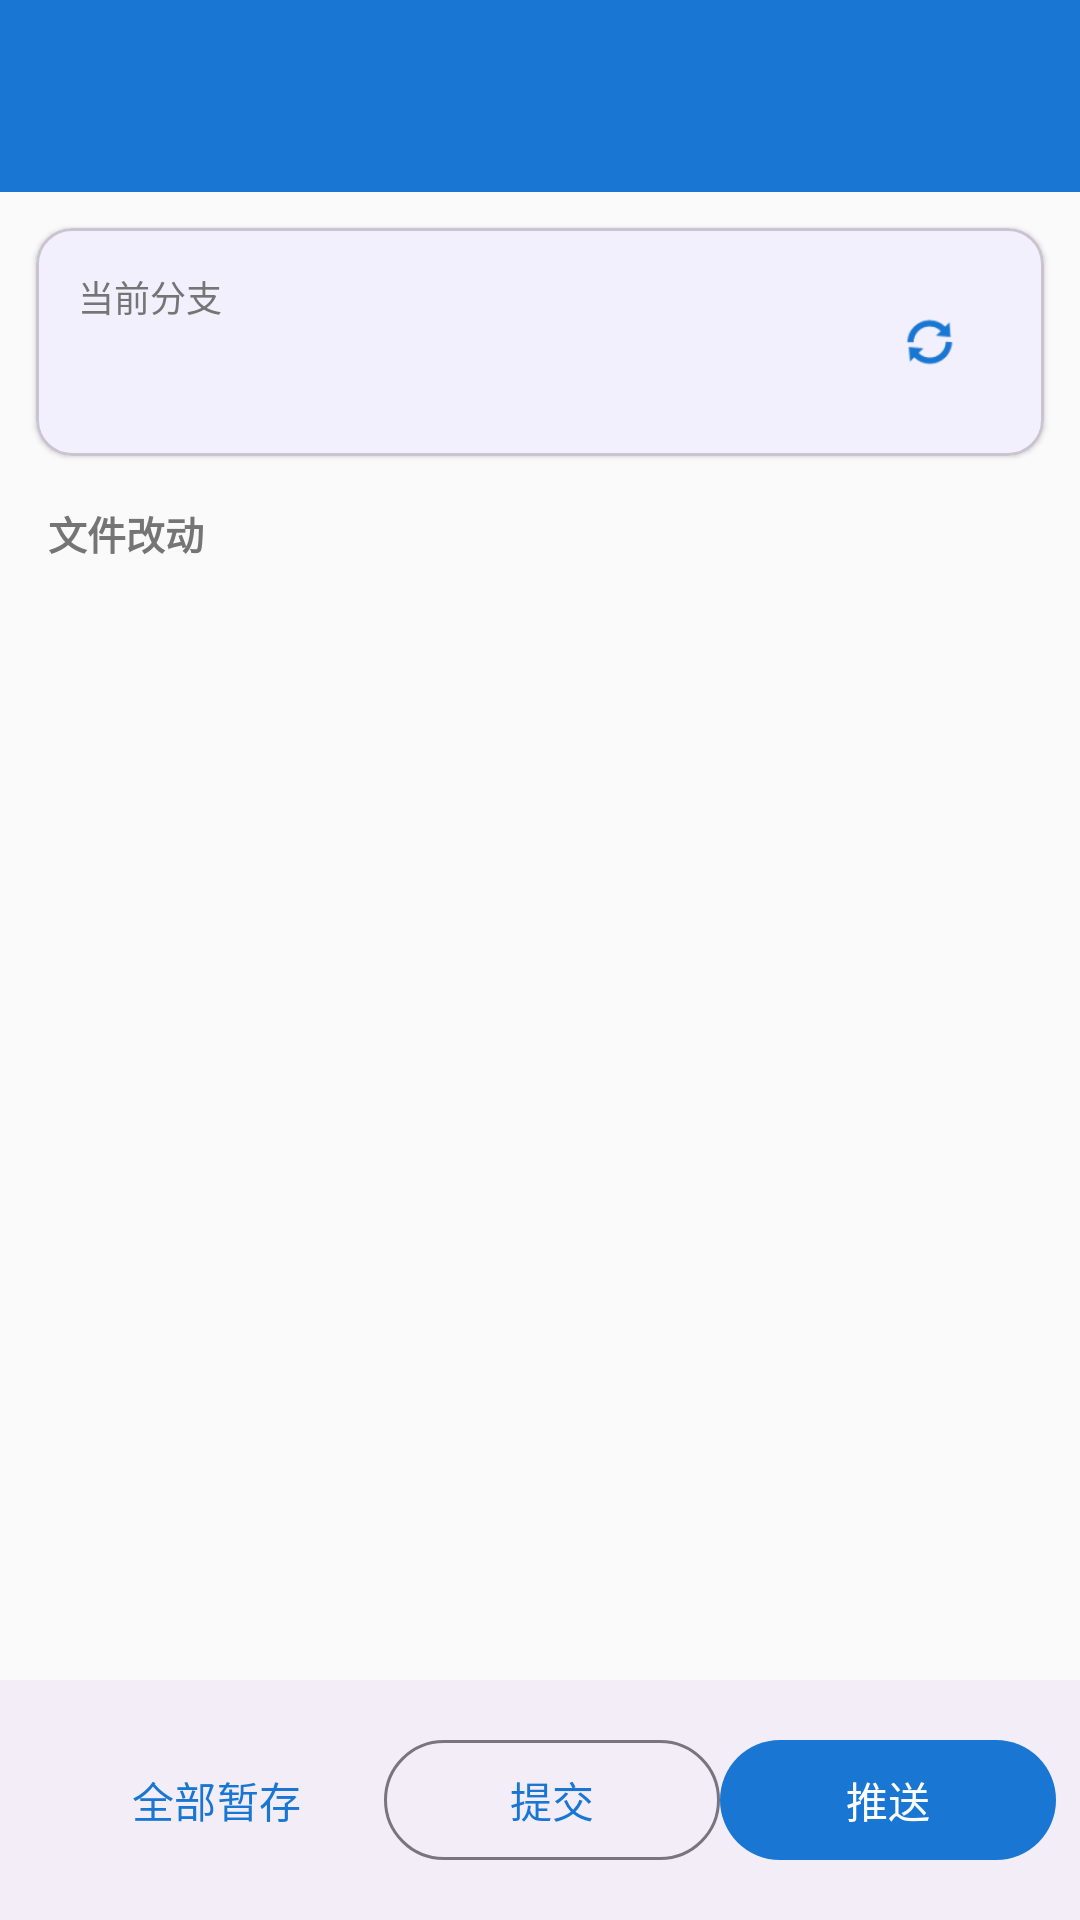

Locate icon controls on the screen. Image size 1080 x 1920, boxes as (x1, y1, x2, y2).
刷新: (907, 319, 953, 365)
